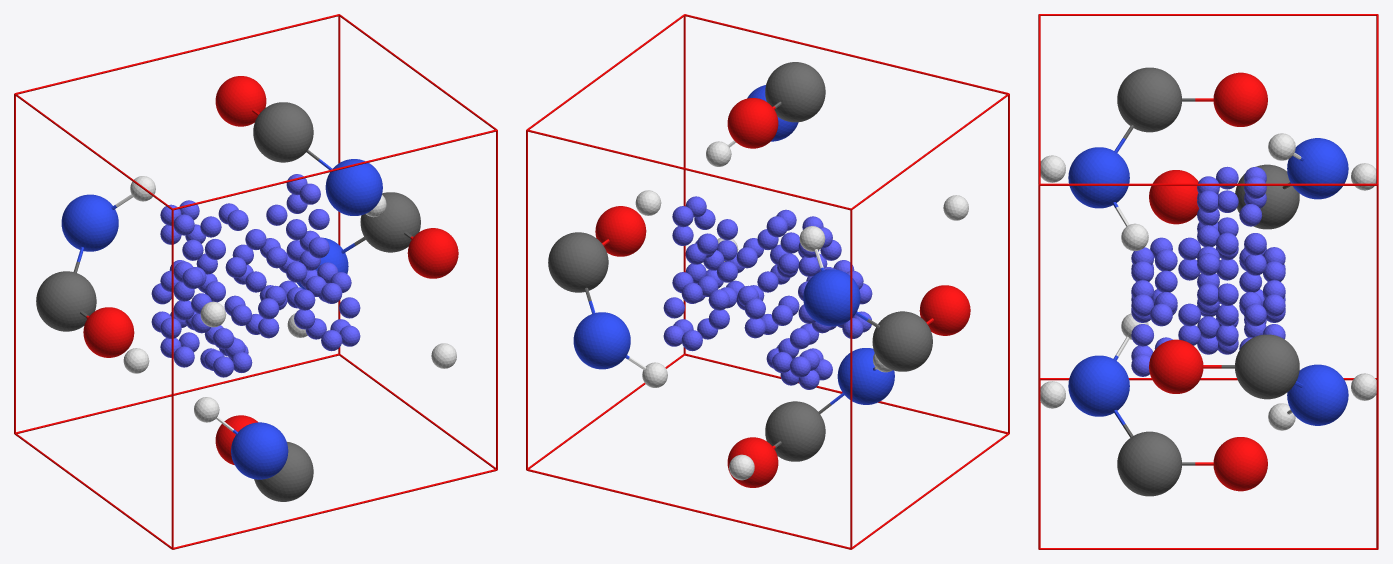
Rendered from 005_auto_clip_cube_seeds.obj.
The picture shows the model from 3 angles, left to right: view 1: azimuth 30°, elevation 25°; view 2: azimuth 150°, elevation 25°; view 3: azimuth 270°, elevation 25°; orthographic projection. The views are drawn at different scales.
Parts seen in each view (by area): view 1: ball_17, ball_1, ball_6, ball_5, ball_8, ball_19, ball_20, ball_3, ball_18, ball_2, stick_31, stick_32 (+8 smaller); view 2: ball_19, ball_1, ball_2, ball_17, ball_7, ball_5, ball_6, ball_18, ball_20, ball_3, ball_4, stick_26 (+7 smaller); view 3: ball_19, ball_2, ball_17, ball_6, ball_7, ball_8, ball_5, ball_4, ball_18, ball_20, ball_3, ball_1 (+26 smaller).
Part boxes in pixels (x1,y1,x2,y2): ball_17: [253, 102, 313, 162]; ball_1: [36, 271, 96, 331]; ball_6: [231, 422, 288, 479]; ball_5: [61, 194, 118, 251]; ball_8: [325, 159, 382, 215]; ball_19: [360, 192, 420, 252]; ball_20: [407, 228, 458, 278]; ball_3: [83, 307, 134, 357]; ball_18: [215, 76, 266, 126]; ball_2: [254, 442, 313, 501]; stick_31: [171, 209, 173, 549]; stick_32: [172, 469, 497, 549]; ball_19: [548, 232, 608, 292]; ball_1: [872, 311, 932, 371]; ball_2: [765, 401, 825, 461]; ball_17: [765, 62, 825, 122]; ball_7: [573, 312, 630, 369]; ball_5: [803, 269, 860, 326]; ball_6: [837, 348, 894, 404]; ball_18: [727, 98, 778, 148]; ball_20: [595, 206, 646, 256]; ball_3: [919, 285, 970, 335]; ball_4: [727, 437, 778, 487]; stick_26: [850, 209, 852, 549]; ball_19: [1235, 334, 1299, 399]; ball_2: [1117, 431, 1181, 496]; ball_17: [1117, 67, 1181, 132]; ball_6: [1068, 355, 1129, 416]; ball_7: [1287, 364, 1348, 425]; ball_8: [1068, 147, 1129, 208]; ball_5: [1287, 138, 1348, 199]; ball_4: [1213, 437, 1267, 491]; ball_18: [1213, 72, 1267, 126]; ball_20: [1149, 339, 1203, 393]; ball_3: [1149, 170, 1198, 224]; ball_1: [1235, 164, 1299, 229].
Bounding box in the file's own units: 12.22 × 12.22 × 8.91.
